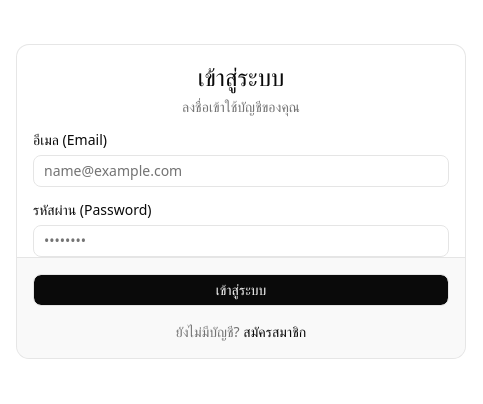
Scenario: LoginPage › validates email and password on submit
The image size is (483, 404).
// Submit empty form
Click the button "เข้าสู่ระบบ" at (241, 290), box 33,274 -> 449,306
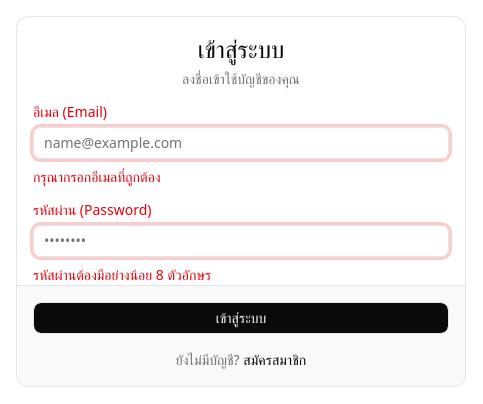
Expected: the text "กรุณากรอกอีเมลที่ถูกต้อง" is shown, 33,166 -> 161,186
Expected: the text "รหัสผ่านต้องมีอย่างน้อย 8 ตัวอักษร" is shown, 33,264 -> 211,284
